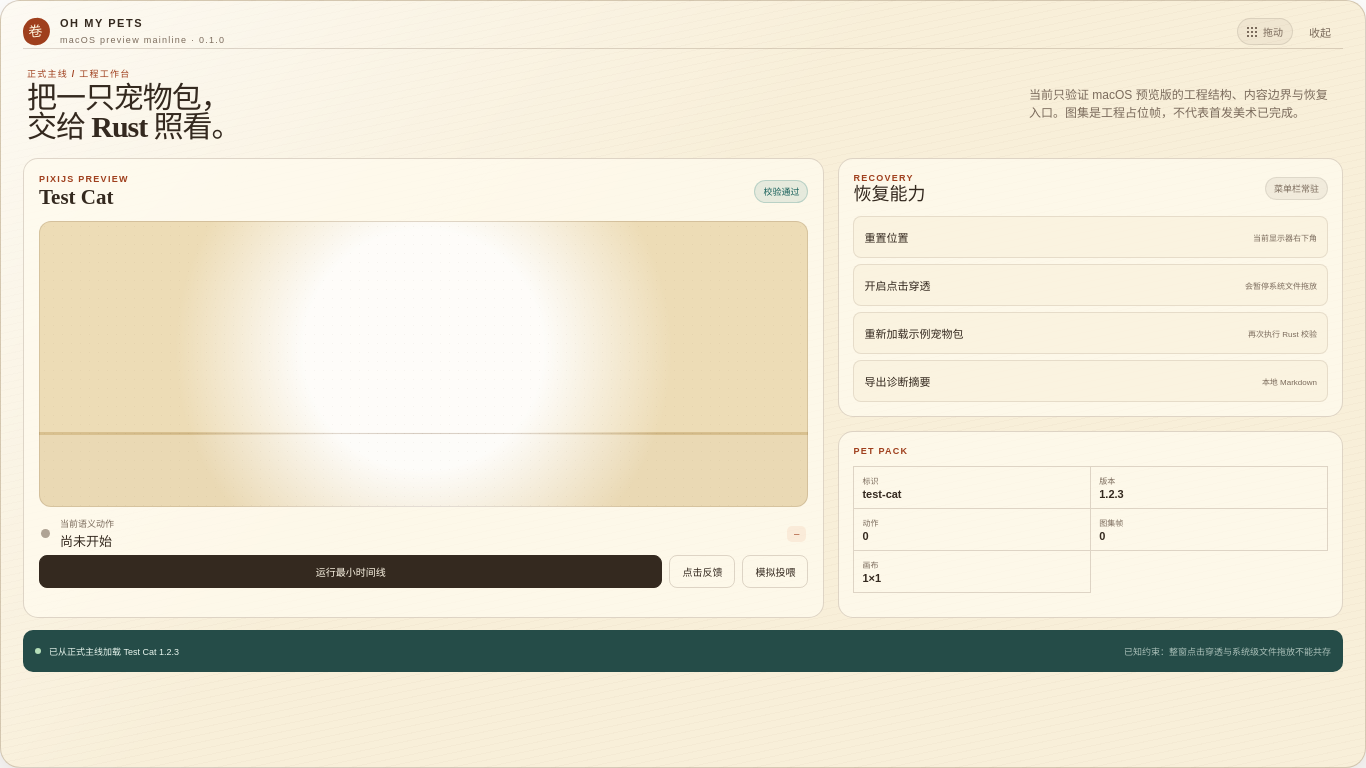
Test: 宠物包状态 › 宠物包失败清场后忽略挂起时间线返回的旧步骤
The width and height of the screenshot is (1366, 768).
Click the button "运行最小时间线". click: x=351, y=571
box: [39,555,662,588]
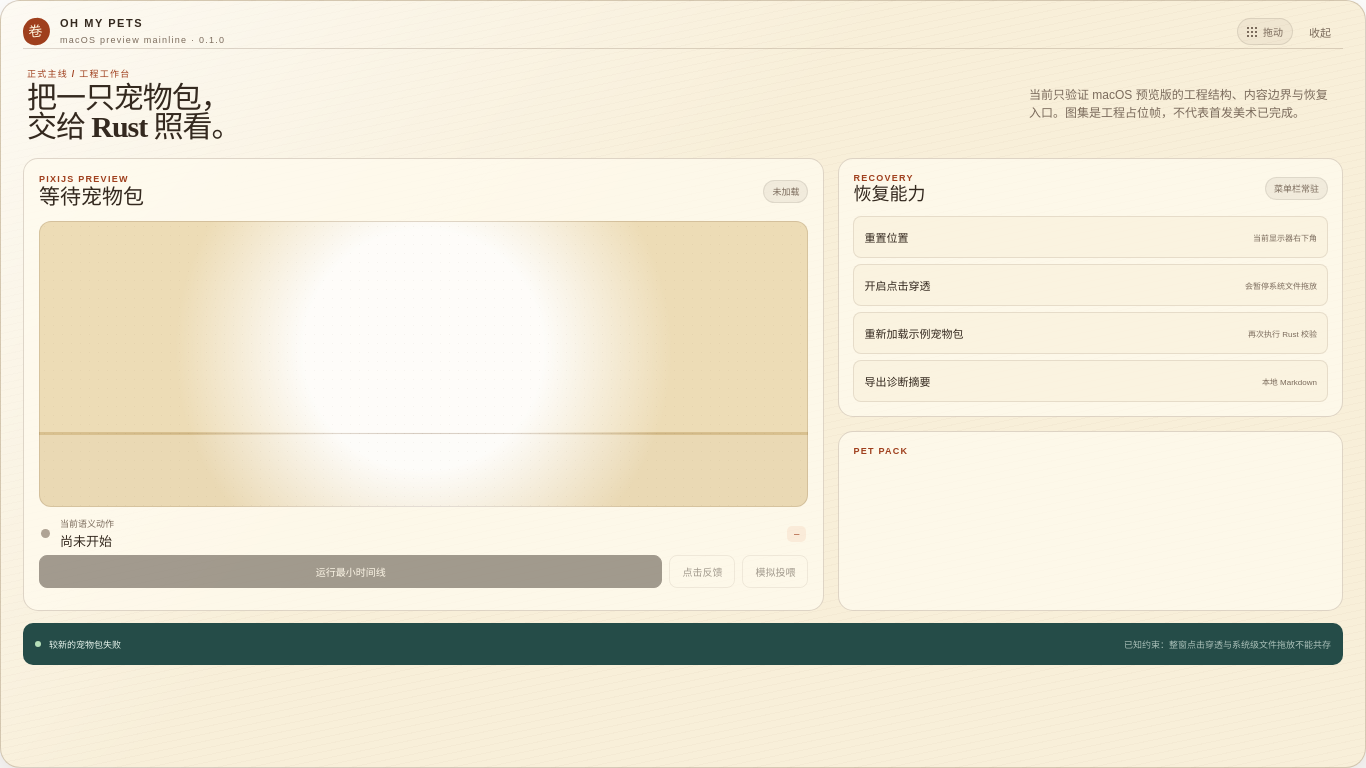
Expected: the text "较新的宠物包失败" is shown, [49,638,121,651]
